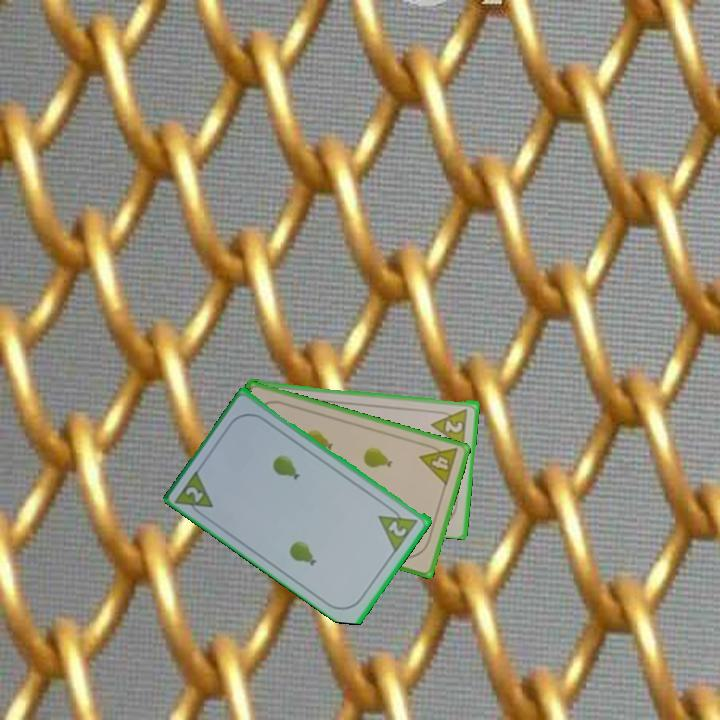2p: (375, 501, 421, 553), (428, 405, 471, 448), (182, 483, 207, 505)
4p: (416, 439, 461, 488)
